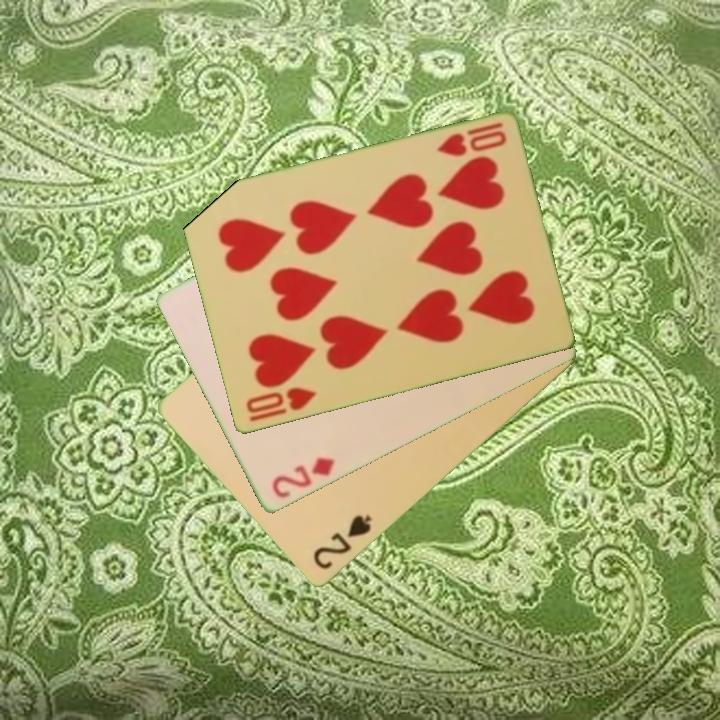10h: (433, 119, 509, 160), (242, 384, 320, 417)
2d: (268, 454, 337, 502)
2s: (309, 511, 375, 573)
